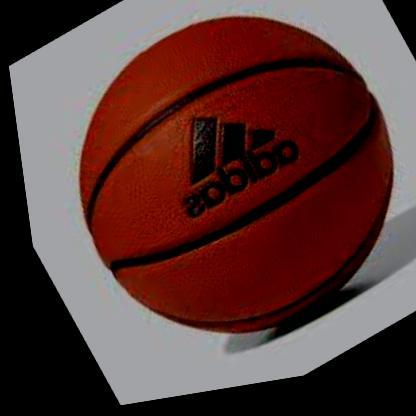basketball: (7, 0, 416, 409)
